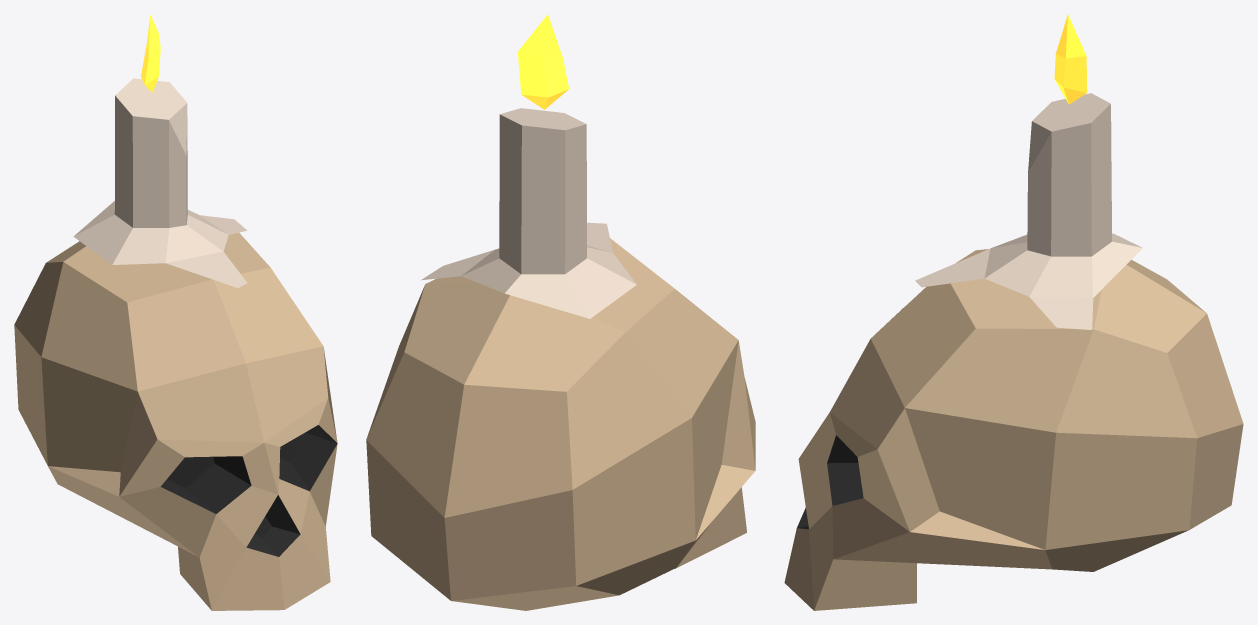
Rendered from skull-human-candle.glb.
The picture shows the model from 3 angles, left to right: view 1: azimuth 30°, elevation 25°; view 2: azimuth 150°, elevation 25°; view 3: azimuth 270°, elevation 25°; orthographic projection. The views are drawn at different scales.
Visible parts, largest first — view 1: skull-human-candle; view 2: skull-human-candle; view 3: skull-human-candle.
Part boxes in pixels (x1,y1,x2,y2): skull-human-candle: [14, 14, 337, 610]; skull-human-candle: [366, 14, 755, 610]; skull-human-candle: [784, 14, 1243, 610].
Bounding box in the file's own units: 0.3192 × 0.6343 × 0.4662.
1 material, 1 textured.
